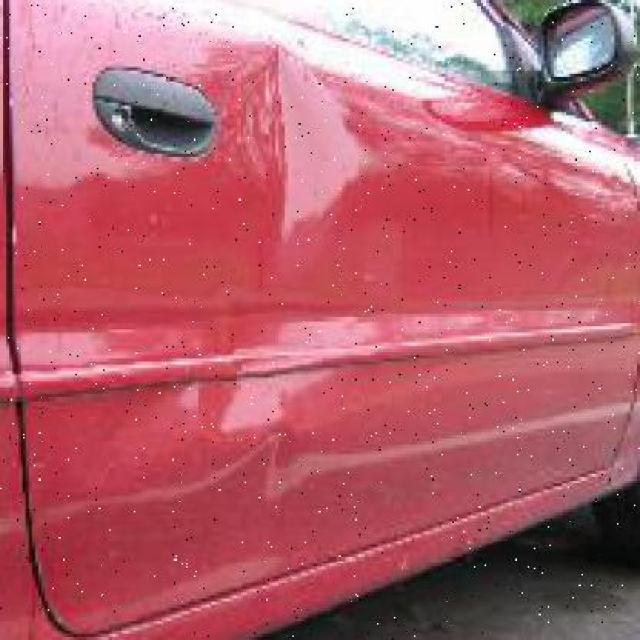car damage: (215, 34, 379, 238), (185, 335, 342, 443), (252, 423, 316, 522)
